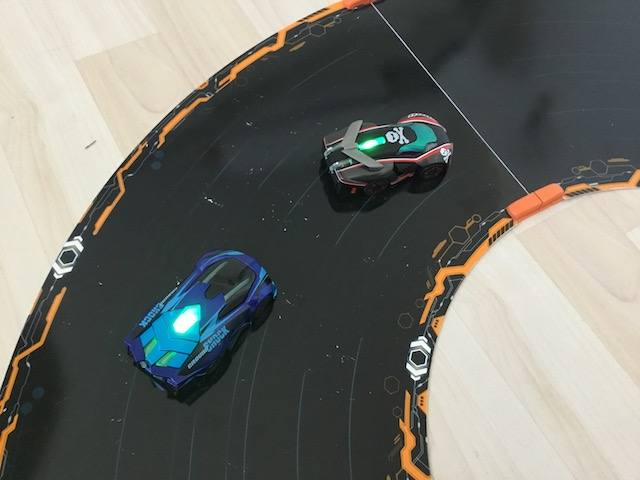car-blue: (121, 246, 280, 402)
car-red: (317, 107, 456, 200)
